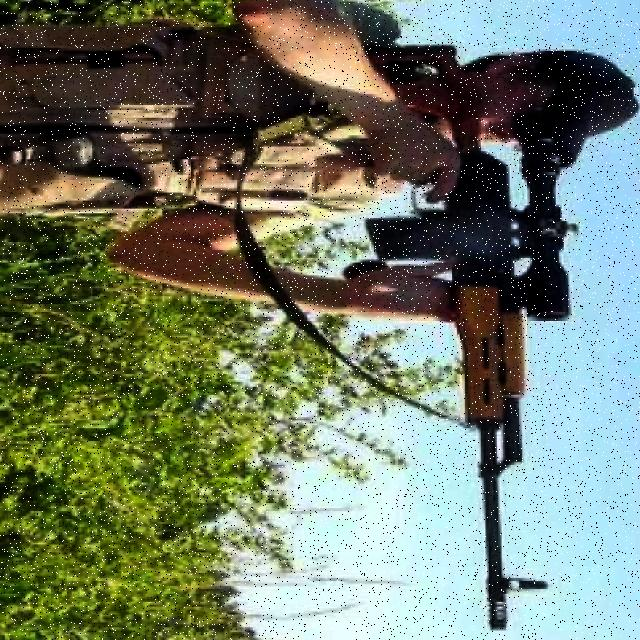Rifle: (363, 41, 579, 632)
